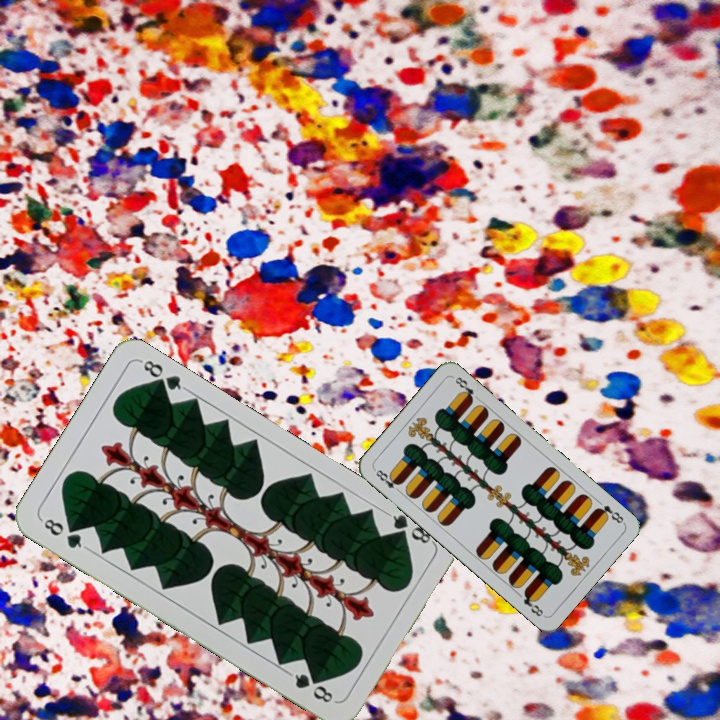E8: (370, 465, 404, 496), (591, 501, 627, 526)
G8: (383, 508, 436, 547), (37, 514, 90, 552)
